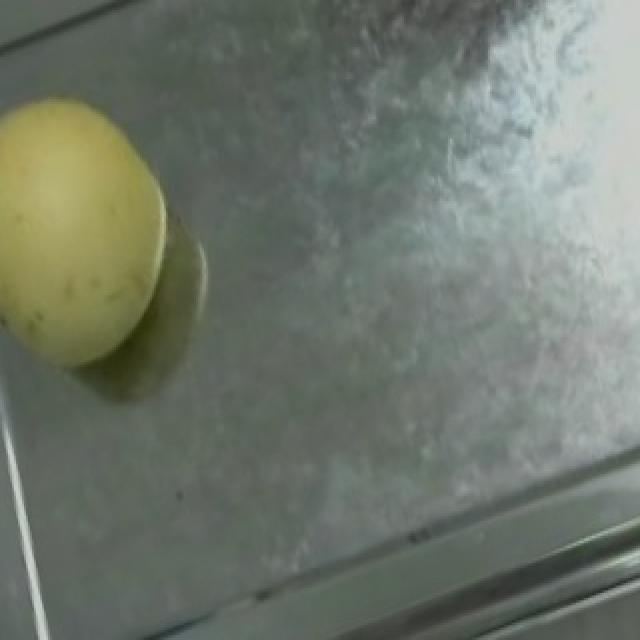Fruit: (2, 64, 206, 392)
